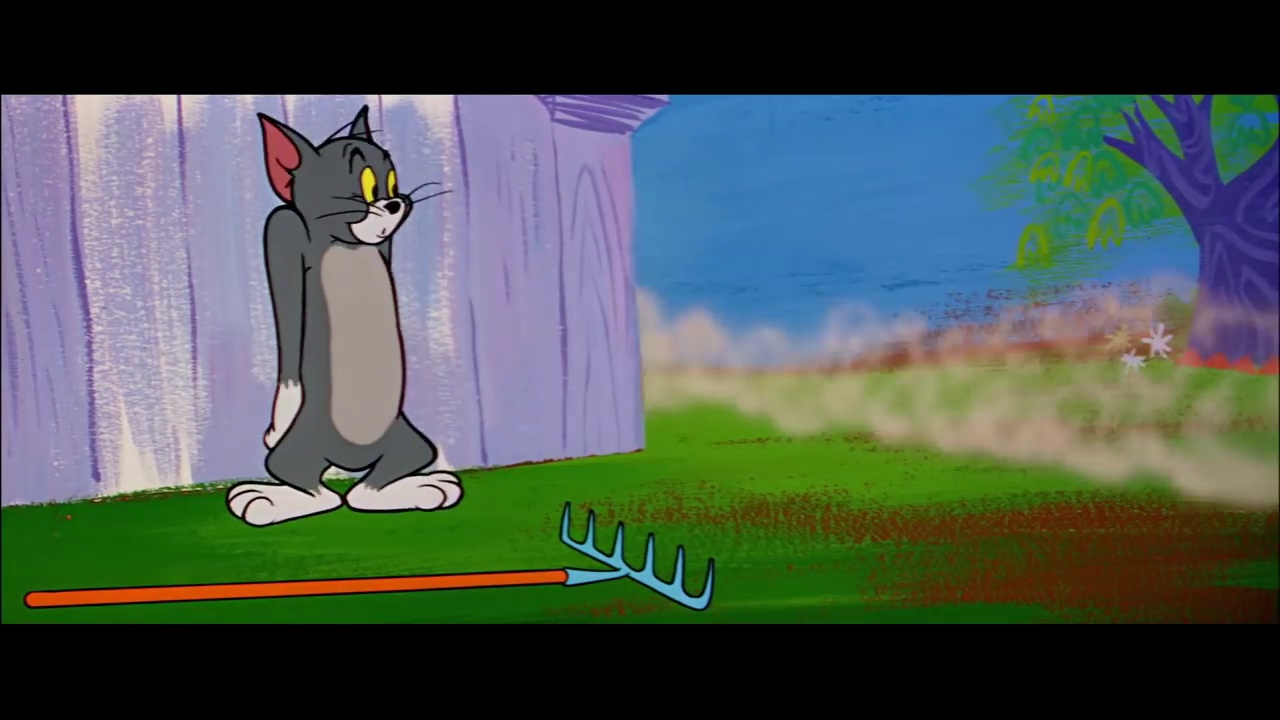tom: (255, 106, 415, 253)
